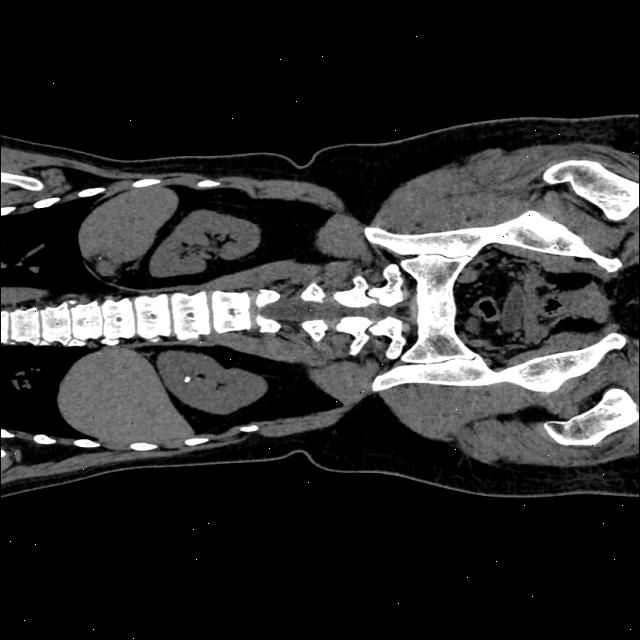kidneystone: (184, 375, 191, 382)
